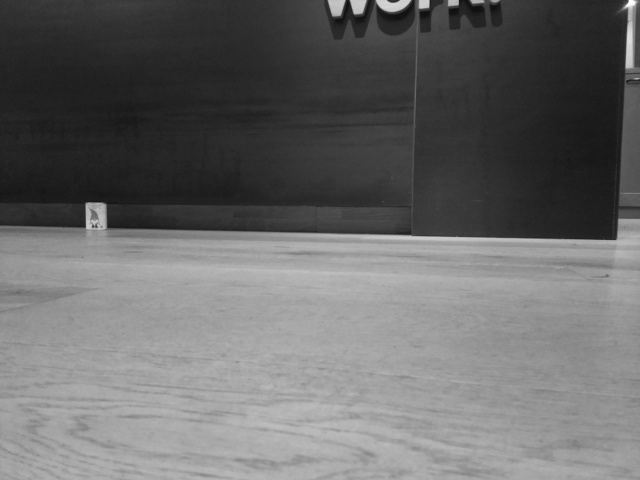gnome: (86, 207, 104, 229)
